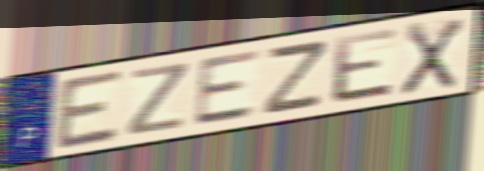E: (53, 66, 127, 153), (191, 47, 265, 129), (331, 25, 401, 107)
X: (397, 15, 467, 98)
Z: (258, 36, 332, 118), (123, 59, 194, 139)
